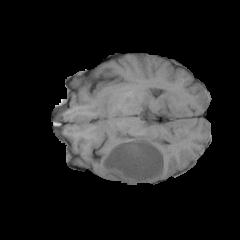glioma: (99, 132, 171, 184)
